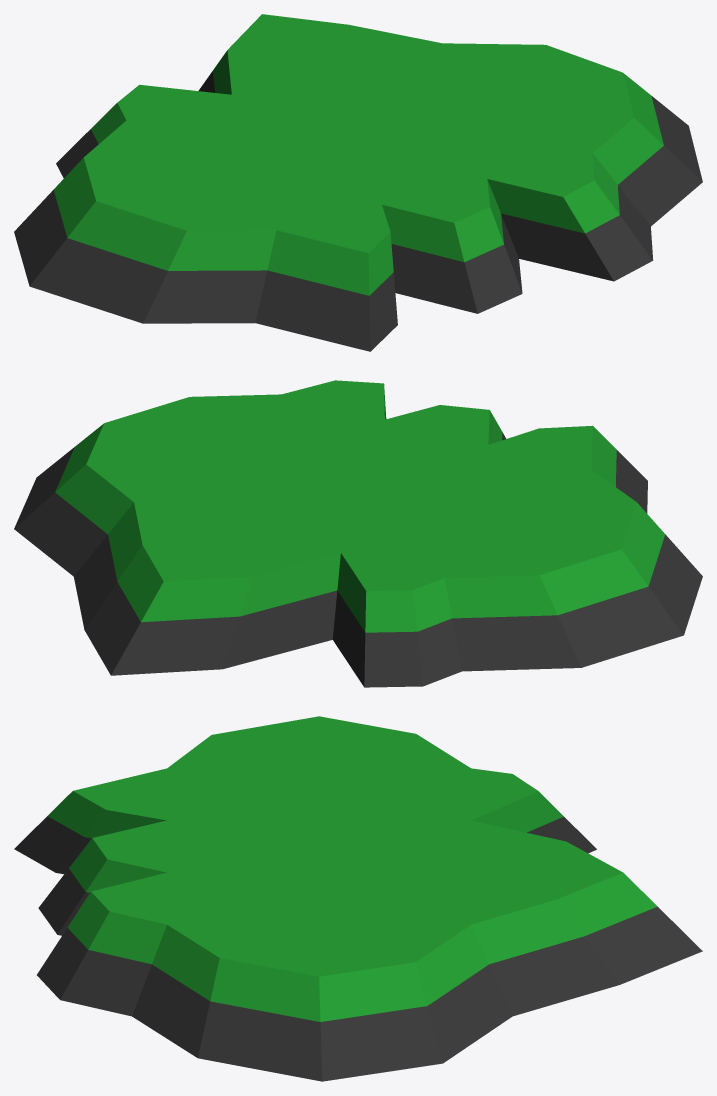
File: Island1.FBX
The picture shows the model from 3 angles, top to bottom: view 1: azimuth 30°, elevation 25°; view 2: azimuth 150°, elevation 25°; view 3: azimuth 270°, elevation 25°; orthographic projection. The views are drawn at different scales.
Parts seen in each view (by area): view 1: Island 5; view 2: Island 5; view 3: Island 5.
Part boxes in pixels (bbox=[...]): Island 5: bbox=[14, 14, 702, 351]; Island 5: bbox=[14, 380, 702, 687]; Island 5: bbox=[14, 716, 702, 1081].
Size of the model in its own units: 129 by 13.26 by 116.
